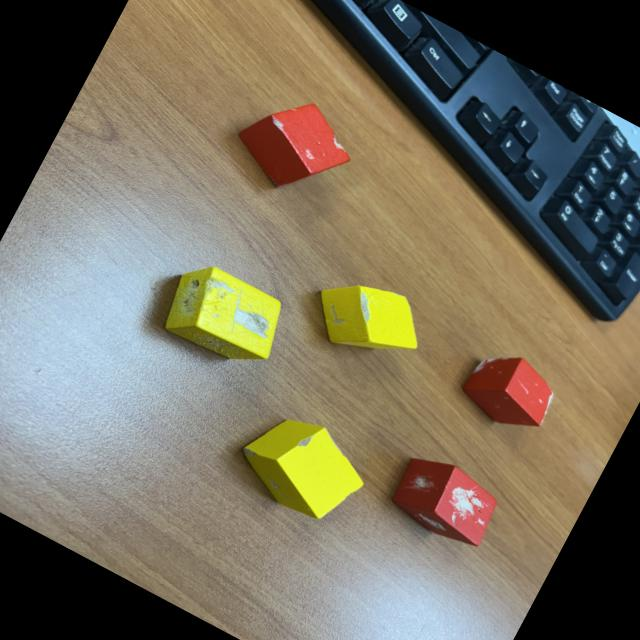broken: (226, 398, 380, 536), (154, 254, 297, 384), (225, 80, 365, 212), (299, 260, 437, 384), (385, 444, 508, 554), (454, 340, 564, 444)
